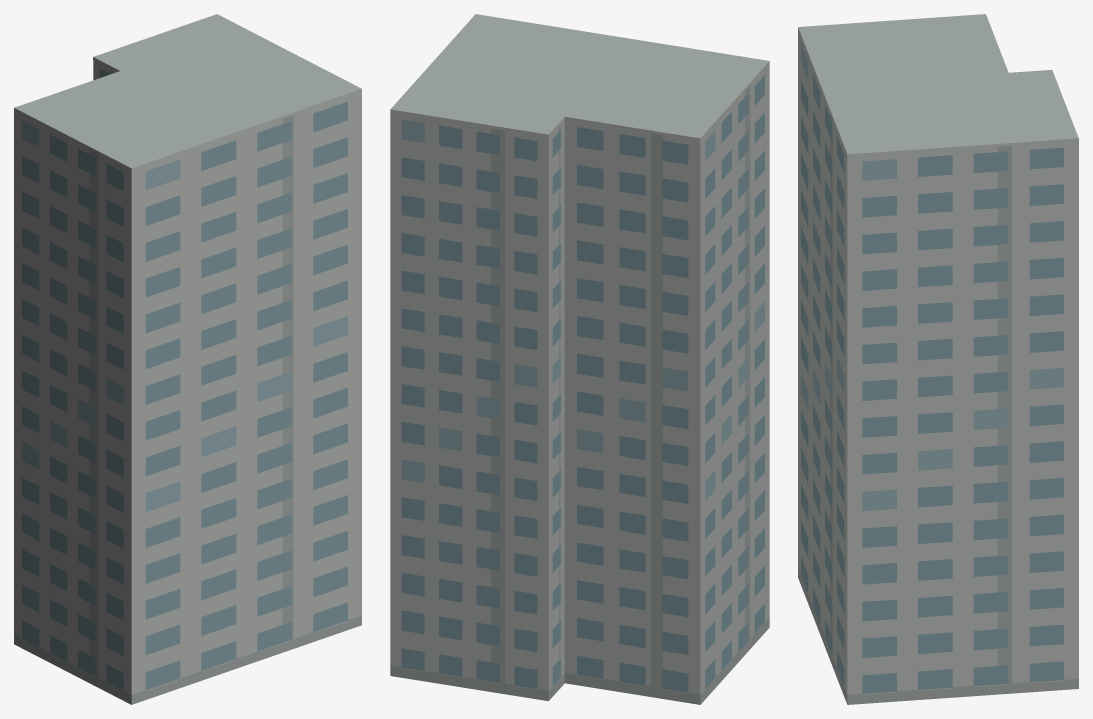
Rendered from residential-3f14936b-fb54-4cc8-9c2c-8f3ada48c688.glb.
3 views of the same model, side by side, from view 1: azimuth 30°, elevation 25°; view 2: azimuth 150°, elevation 25°; view 3: azimuth 270°, elevation 25° (orthographic). The views are drawn at different scales.
Parts seen in each view (by area): view 1: residential-3f14936b-fb54-4cc8-9c2c-8f3ada48c688.tmp; view 2: residential-3f14936b-fb54-4cc8-9c2c-8f3ada48c688.tmp; view 3: residential-3f14936b-fb54-4cc8-9c2c-8f3ada48c688.tmp.
Boxes of the visible parts, x1=… form: residential-3f14936b-fb54-4cc8-9c2c-8f3ada48c688.tmp: x1=14, y1=14, x2=361, y2=704; residential-3f14936b-fb54-4cc8-9c2c-8f3ada48c688.tmp: x1=390, y1=14, x2=769, y2=704; residential-3f14936b-fb54-4cc8-9c2c-8f3ada48c688.tmp: x1=798, y1=14, x2=1078, y2=704.
Bounding box in the file's own units: 27.35 × 50 × 23.12.
